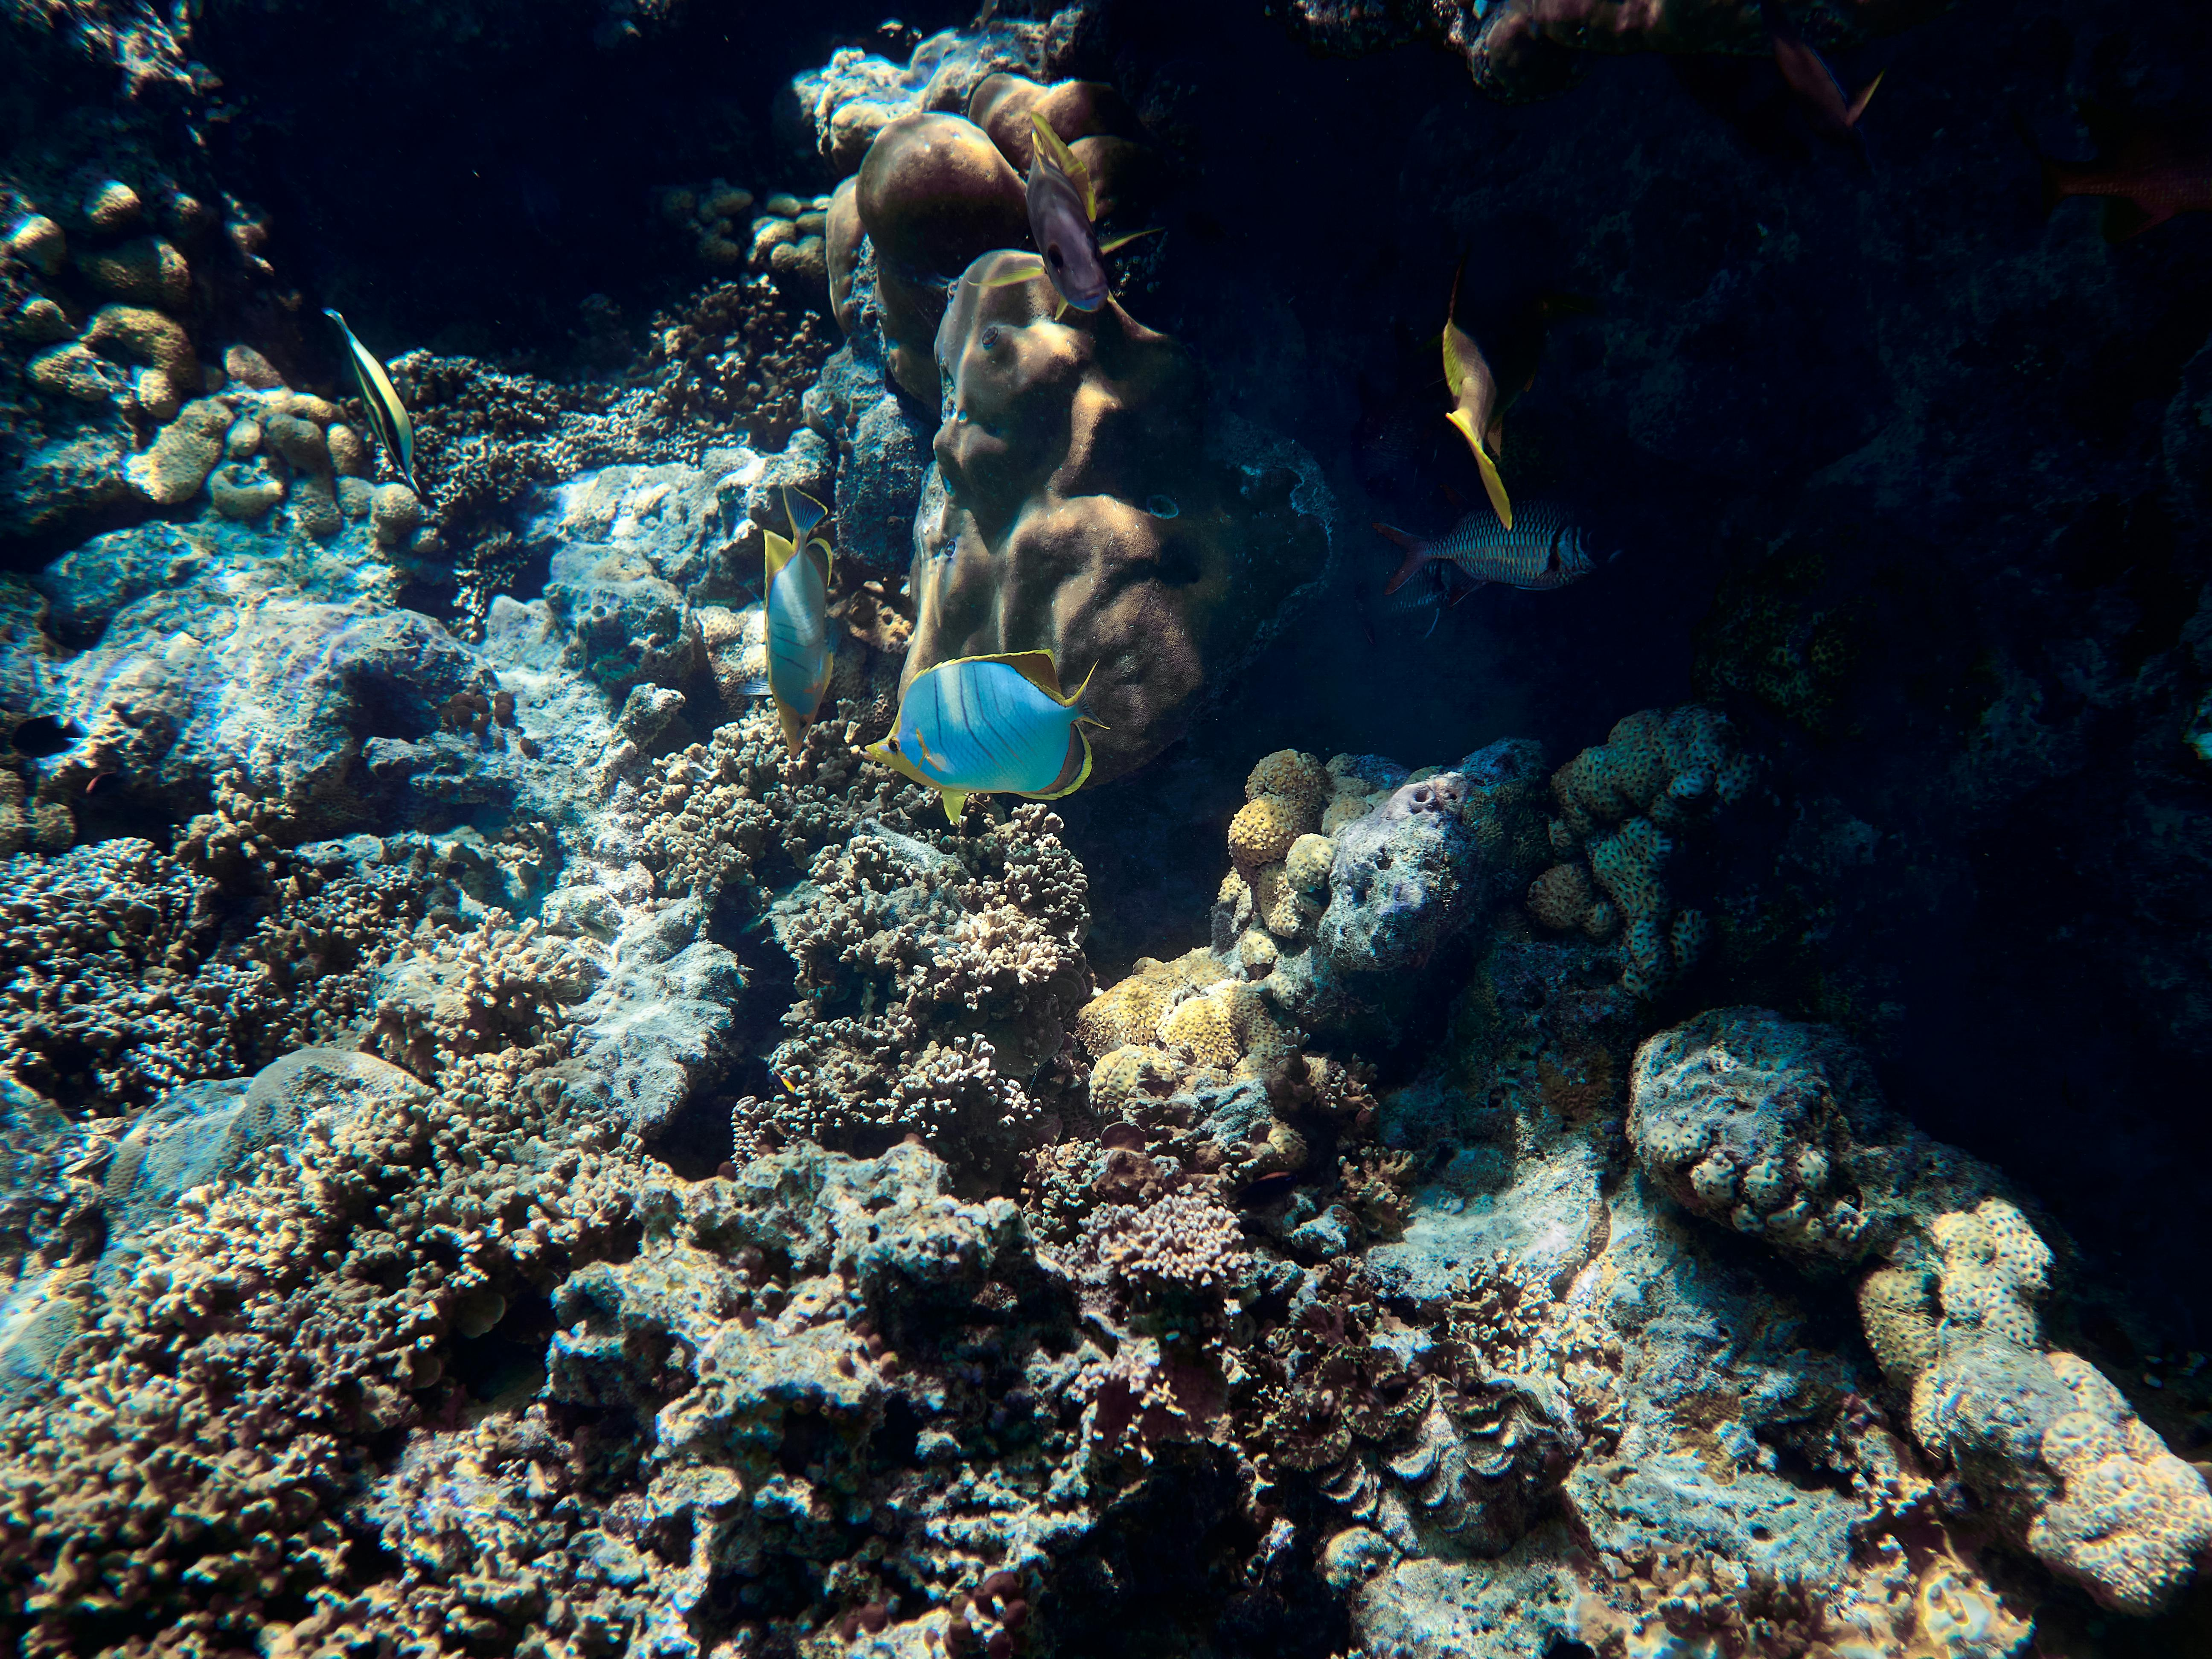fishRound: (850, 641, 1108, 828), (1440, 263, 1547, 532), (756, 481, 845, 769), (315, 301, 427, 512)
fishSmall: (963, 110, 1170, 331), (1362, 502, 1623, 596)
